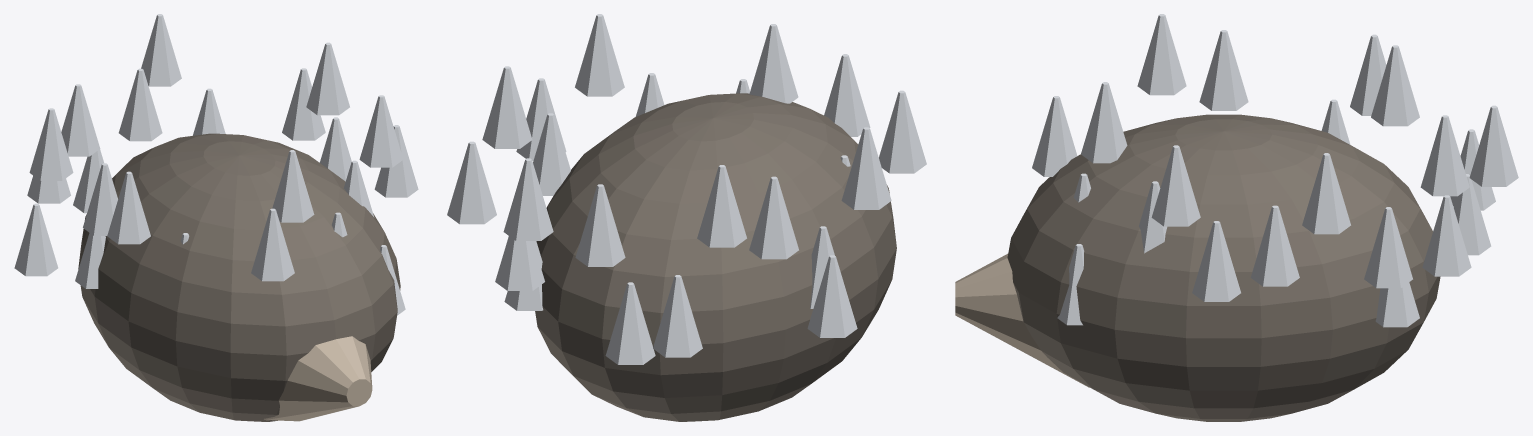
Rendered from rocky.glb.
The picture shows the model from 3 angles, left to right: view 1: azimuth 30°, elevation 25°; view 2: azimuth 150°, elevation 25°; view 3: azimuth 270°, elevation 25°; orthographic projection. The views are drawn at different scales.
Visible parts, largest first — view 1: PebbleBody, ChromeQuills, Snout; view 2: PebbleBody, ChromeQuills; view 3: PebbleBody, ChromeQuills, Snout.
Part boxes in pixels (x1,y1,x2,y2): PebbleBody: (78,133,400,421); ChromeQuills: (14,14,418,315); Snout: (264,336,372,421); PebbleBody: (535,93,896,421); ChromeQuills: (447,14,926,364); PebbleBody: (1007,114,1440,421); ChromeQuills: (1032,14,1518,327); Snout: (955,253,1089,387).
Bounding box in the file's own units: 0.3936 × 0.32 × 0.5035.
